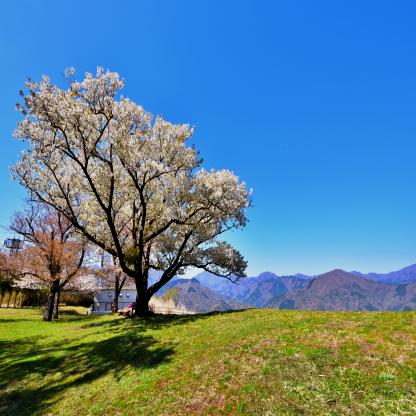OshimaSakura: (10, 61, 256, 290), (0, 186, 85, 323), (10, 224, 101, 313)
